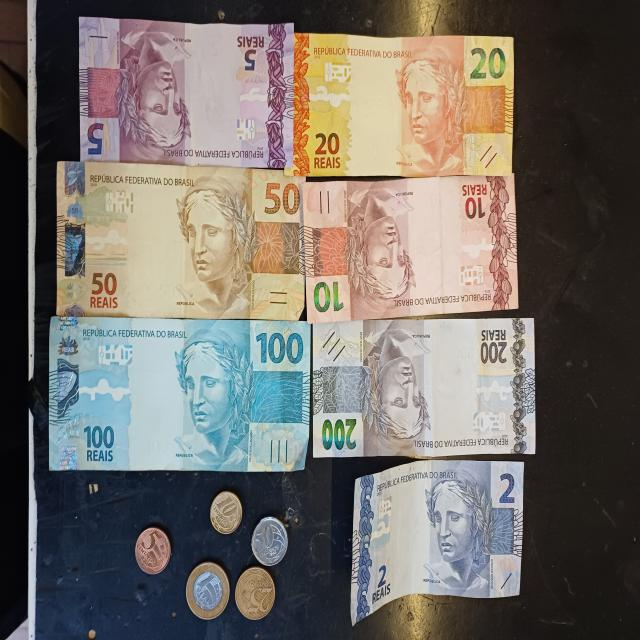1 real: (184, 559, 232, 622)
25 cents: (235, 566, 276, 622)
50 cents: (250, 518, 290, 569)
